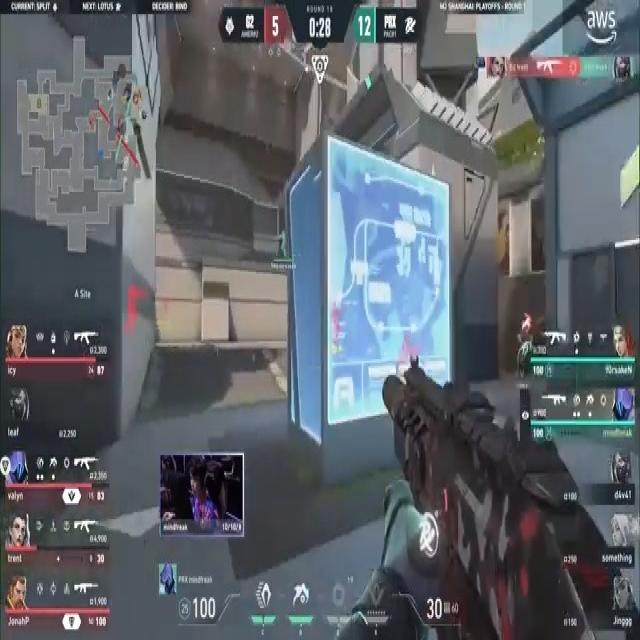enemy behind wall: (122, 277, 148, 334)
